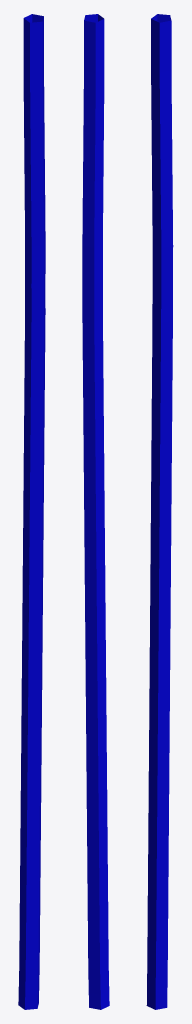
The model's file is trajectory-1.gltf.
3 views of the same model, side by side, from view 1: azimuth 30°, elevation 25°; view 2: azimuth 210°, elevation 25°; view 3: azimuth 330°, elevation 25° (orthographic).
Bounding box in the file's own units: 0.2467 × 9.9 × 0.1992.
